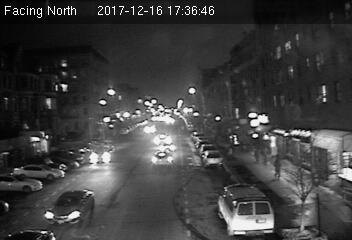car: (43, 190, 96, 226), (151, 151, 175, 169), (89, 147, 112, 165), (203, 152, 223, 167)
police: (217, 182, 277, 238)
